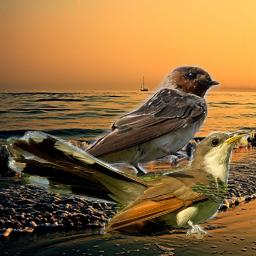Cuckoo: (7, 131, 250, 239)
Swallow: (55, 63, 221, 183)
